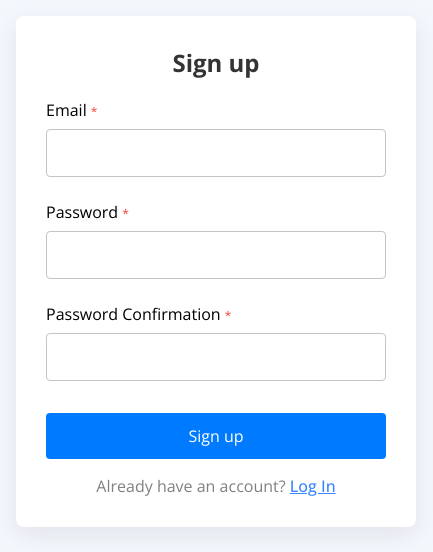
Scenario: Register-tests: › Cannot register when passwords dont match
In the field with id "email": (216, 153) [46,129,386,177], type "testi@testi.com"
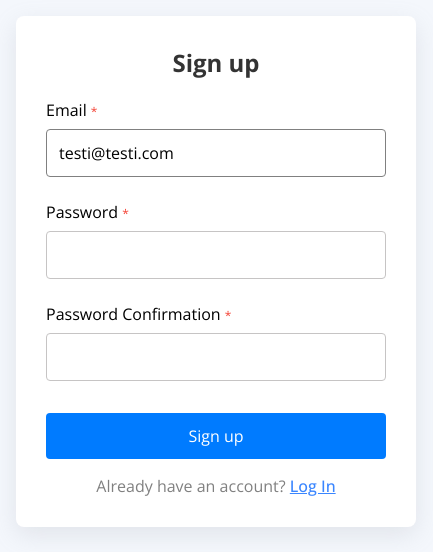
In the password field labelled "Password": (216, 255) [46,231,386,279], type "1234567"
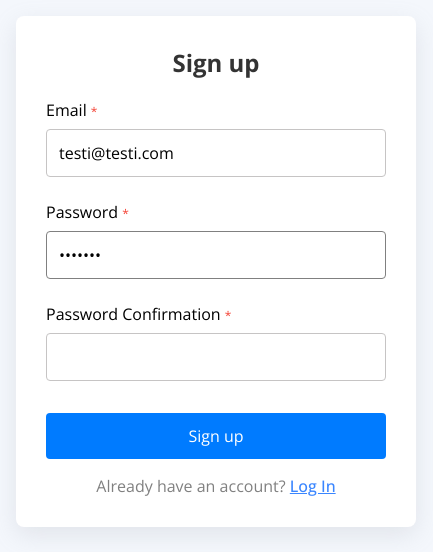
In the password field labelled "Password Confirmation": (216, 357) [46,333,386,381], type "123456"
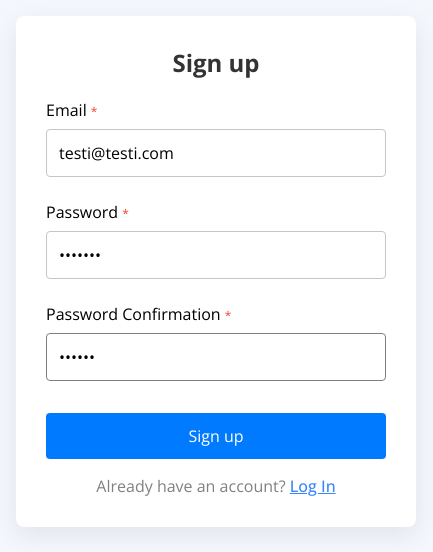
Click the button with id "register-button": (216, 436) [46,413,386,459]
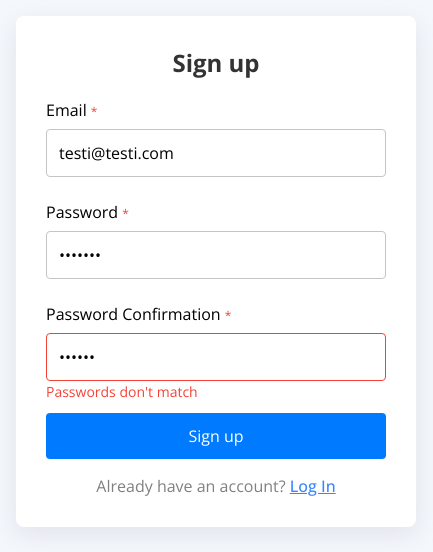
Result: the text "Passwords don't match" is shown at [46,382,198,400]
